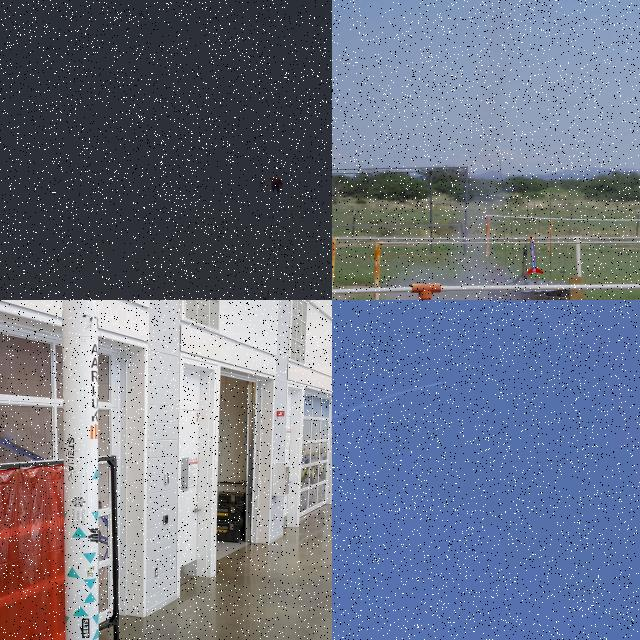Rocket: (61, 300, 99, 640), (526, 234, 544, 276), (517, 245, 531, 280), (440, 382, 442, 384)
